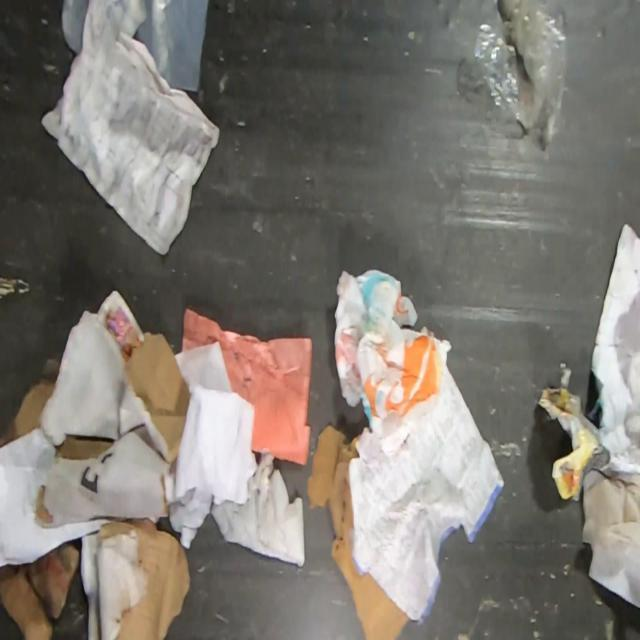cardboard: (46, 333, 188, 530), (0, 356, 82, 640), (303, 422, 409, 640), (98, 519, 192, 640)
soft_plastic: (473, 0, 573, 145), (61, 0, 210, 93)
